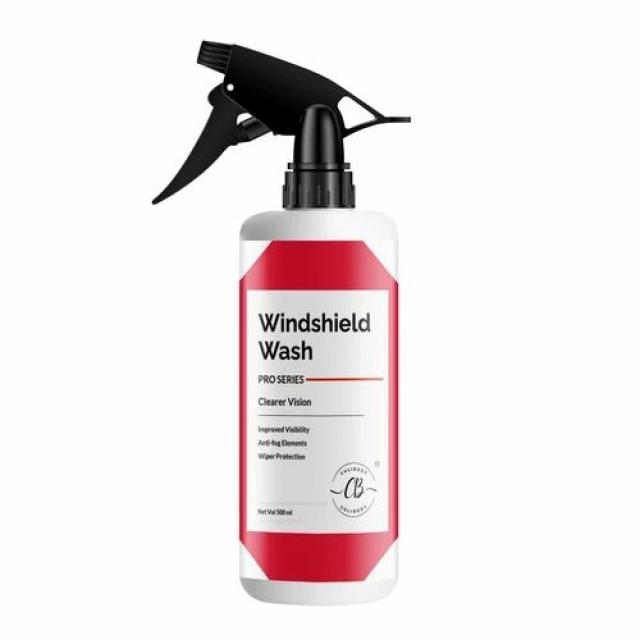winwinshield_washer: (146, 32, 419, 604)
